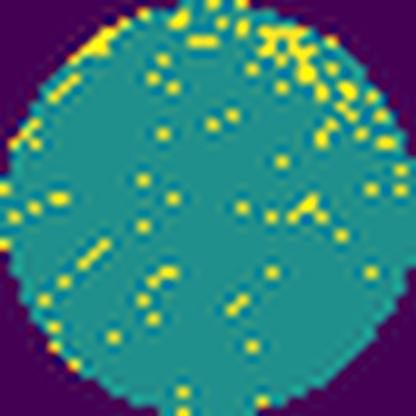Loc: (251, 28, 334, 102)
